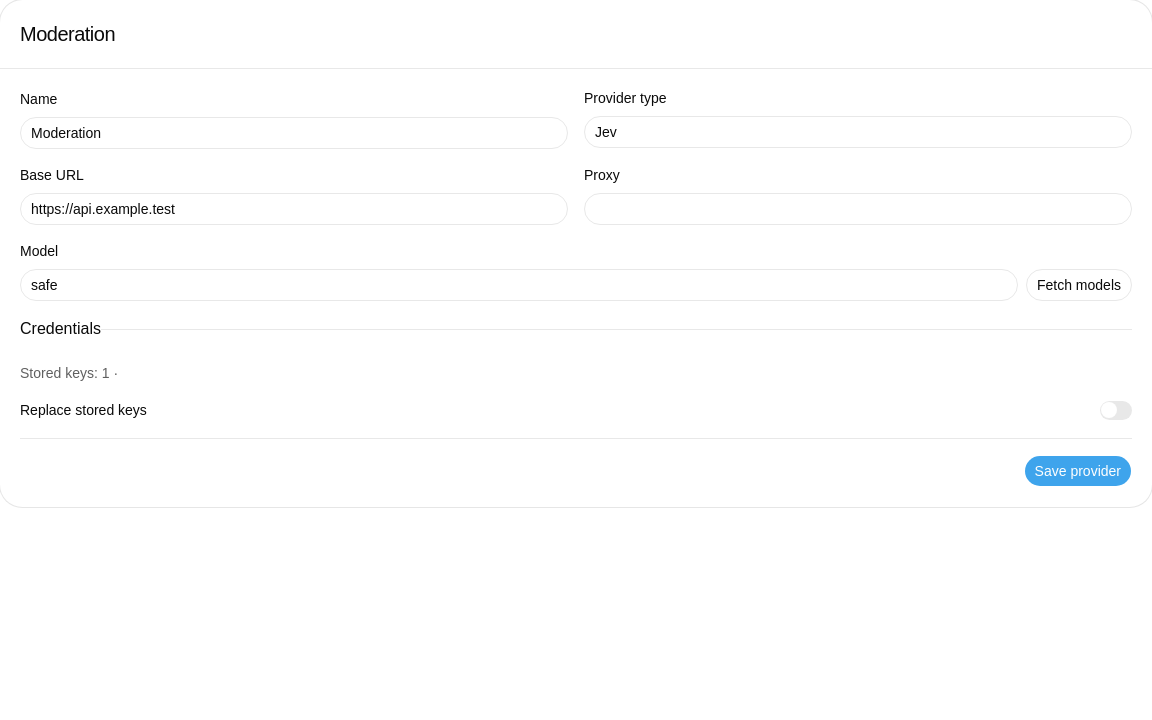
Test: requires saving a changed Base URL before probing with stored credentials
Replace the text in the field named "Base URL" with "https://new.example.test" at (294, 209), box [20,193,568,225]
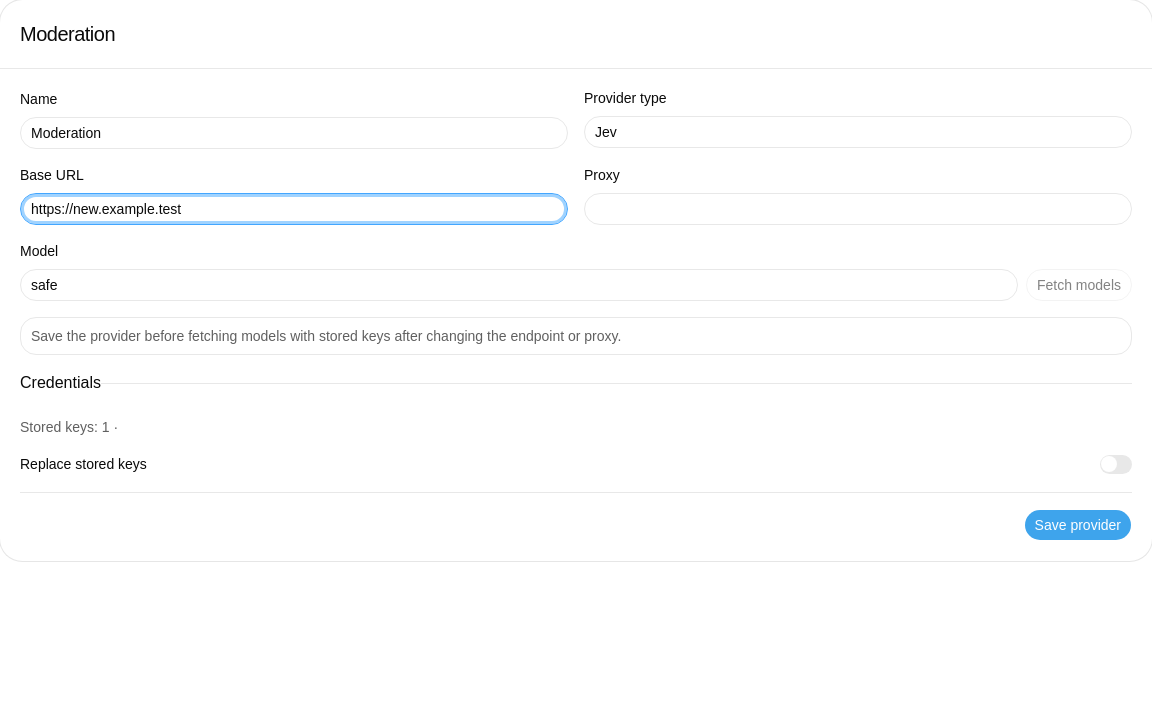
Check: the button "Fetch models" is disabled, box [1026,269,1132,301]
Check: the message shows "Save the provider before fetching models with stored keys after changing the endpoint or proxy.", box [31,328,621,344]
Click the button "Save provider".
click(1078, 525)  # box [1024,509,1132,541]
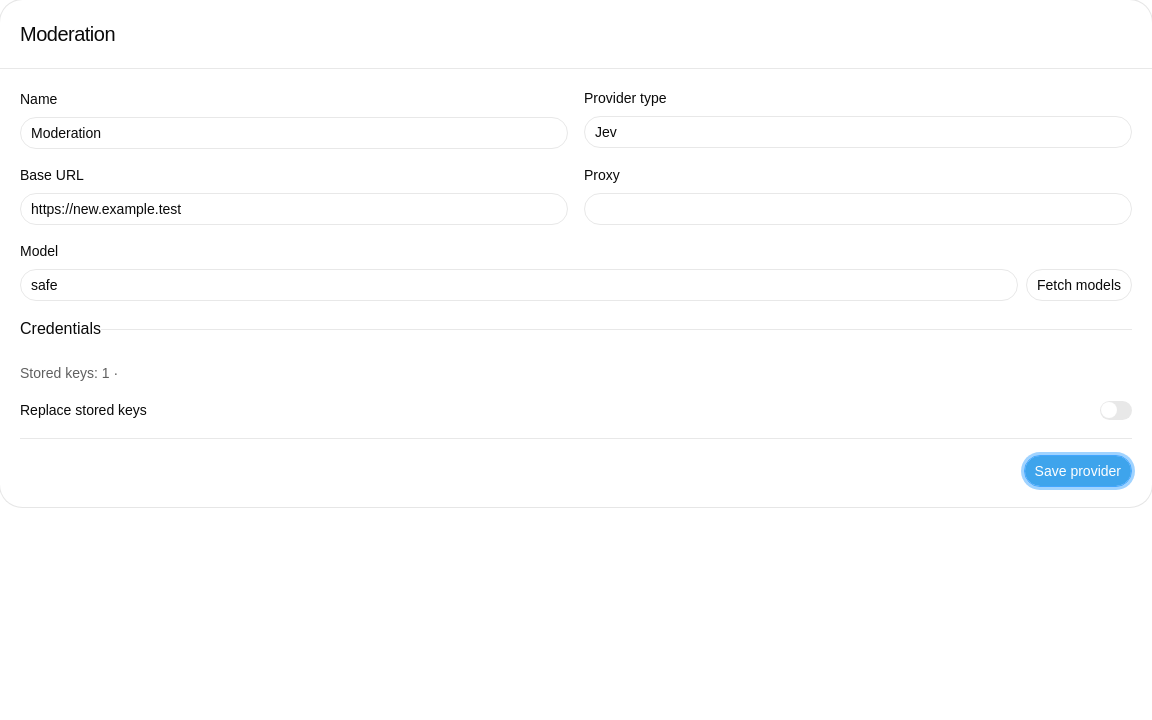
Check: the button "Fetch models" is enabled
Click the button "Fetch models".
click(1079, 285)  # box [1026,269,1132,301]
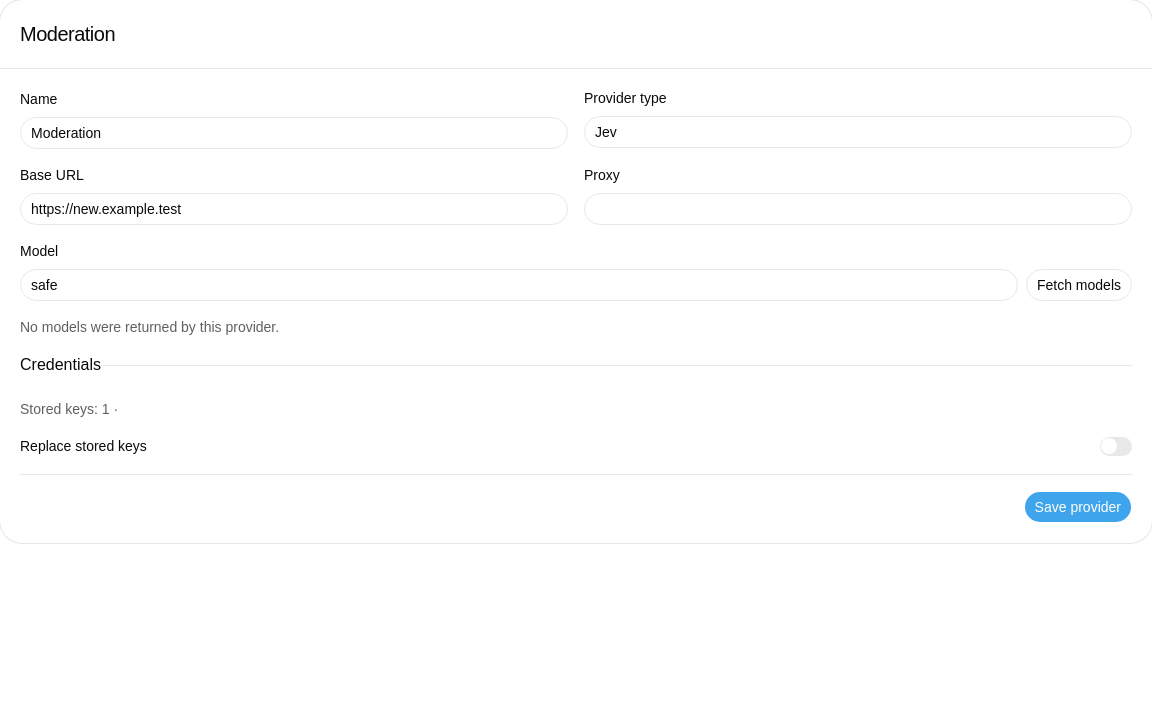
Check: the message reads "No models were returned by this provider.", box [20,319,279,335]
